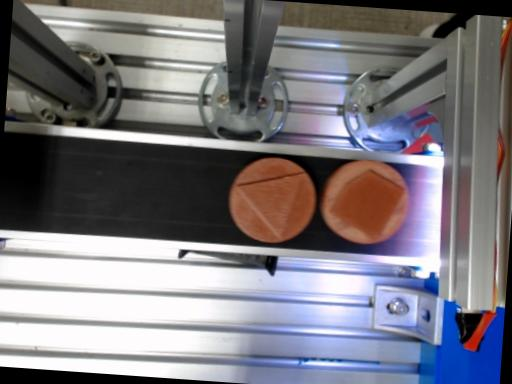Brown_Waper: (320, 161, 409, 244), (228, 158, 315, 242)
